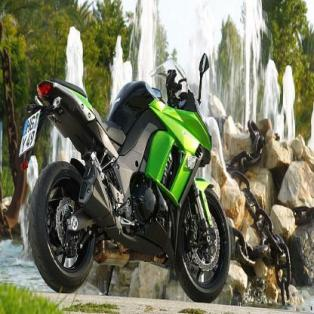Motocicleta: (24, 48, 232, 303)
